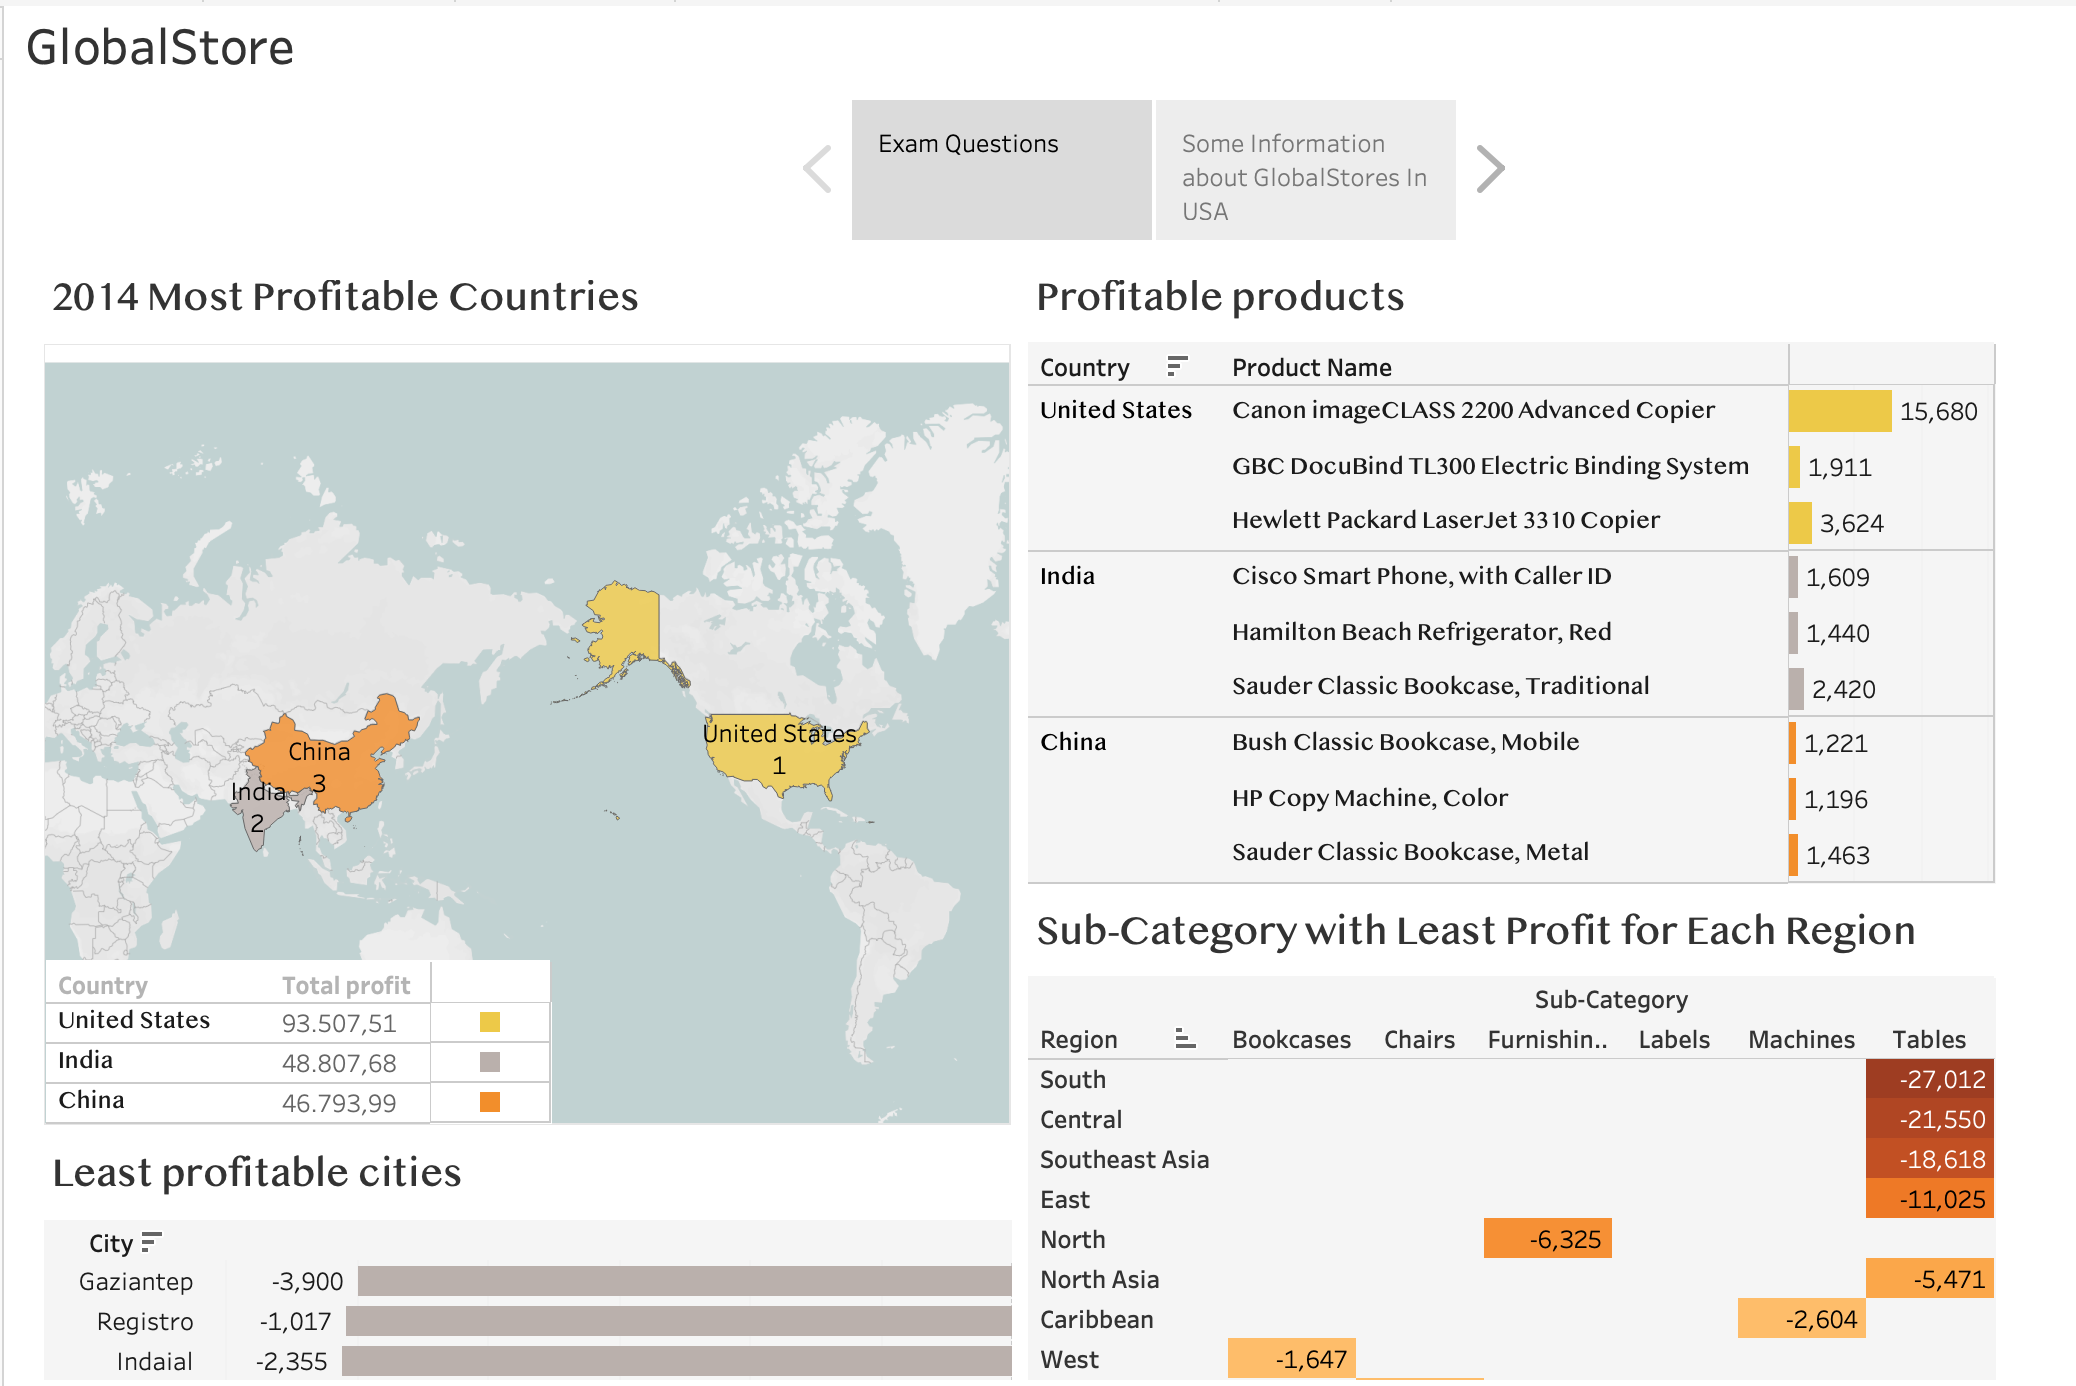

The dashboard page shown, as its layout file describes it:
{"tool":"tableau","page":{"name":"Dashboard 1","canvas":[1000,800],"ordinal":0},"visuals":[{"type":"worksheet","title":"q1","mark":"Multipolygon","box":[8,8,492,438]},{"type":"worksheet","title":"q1 (2)","mark":"Automatic","rows":["Country","Product Name"],"cols":["Profit"],"box":[500,8,492,317]},{"type":"worksheet","title":"Sub-Category with Least Profit for Each Region","mark":"Square","rows":["Region"],"cols":["Sub-Category"],"box":[500,325,492,467]},{"type":"worksheet","title":"q1 (3)","mark":"Square","rows":["Country","Calculation_1947947586560741380"],"box":[13,345,269,114]},{"type":"worksheet","title":"Sheet 4","mark":"Automatic","rows":["City"],"cols":["Profit"],"box":[8,446,492,346]}]}

Visuals, with their boxes on the page's 1000x800 design canvas (x1, y1, x2, y2). These are canvas units, not pixel positions in the 2076x1386 screenshot, which may show the page scaled, cropped or inside an application window:
"q1" worksheet (Multipolygon marks): {"x1": 8, "y1": 8, "x2": 500, "y2": 446}
"q1 (2)" worksheet: {"x1": 500, "y1": 8, "x2": 992, "y2": 325}
"Sub-Category with Least Profit for Each Region" worksheet (Square marks): {"x1": 500, "y1": 325, "x2": 992, "y2": 792}
"q1 (3)" worksheet (Square marks): {"x1": 13, "y1": 345, "x2": 282, "y2": 459}
"Sheet 4" worksheet: {"x1": 8, "y1": 446, "x2": 500, "y2": 792}
